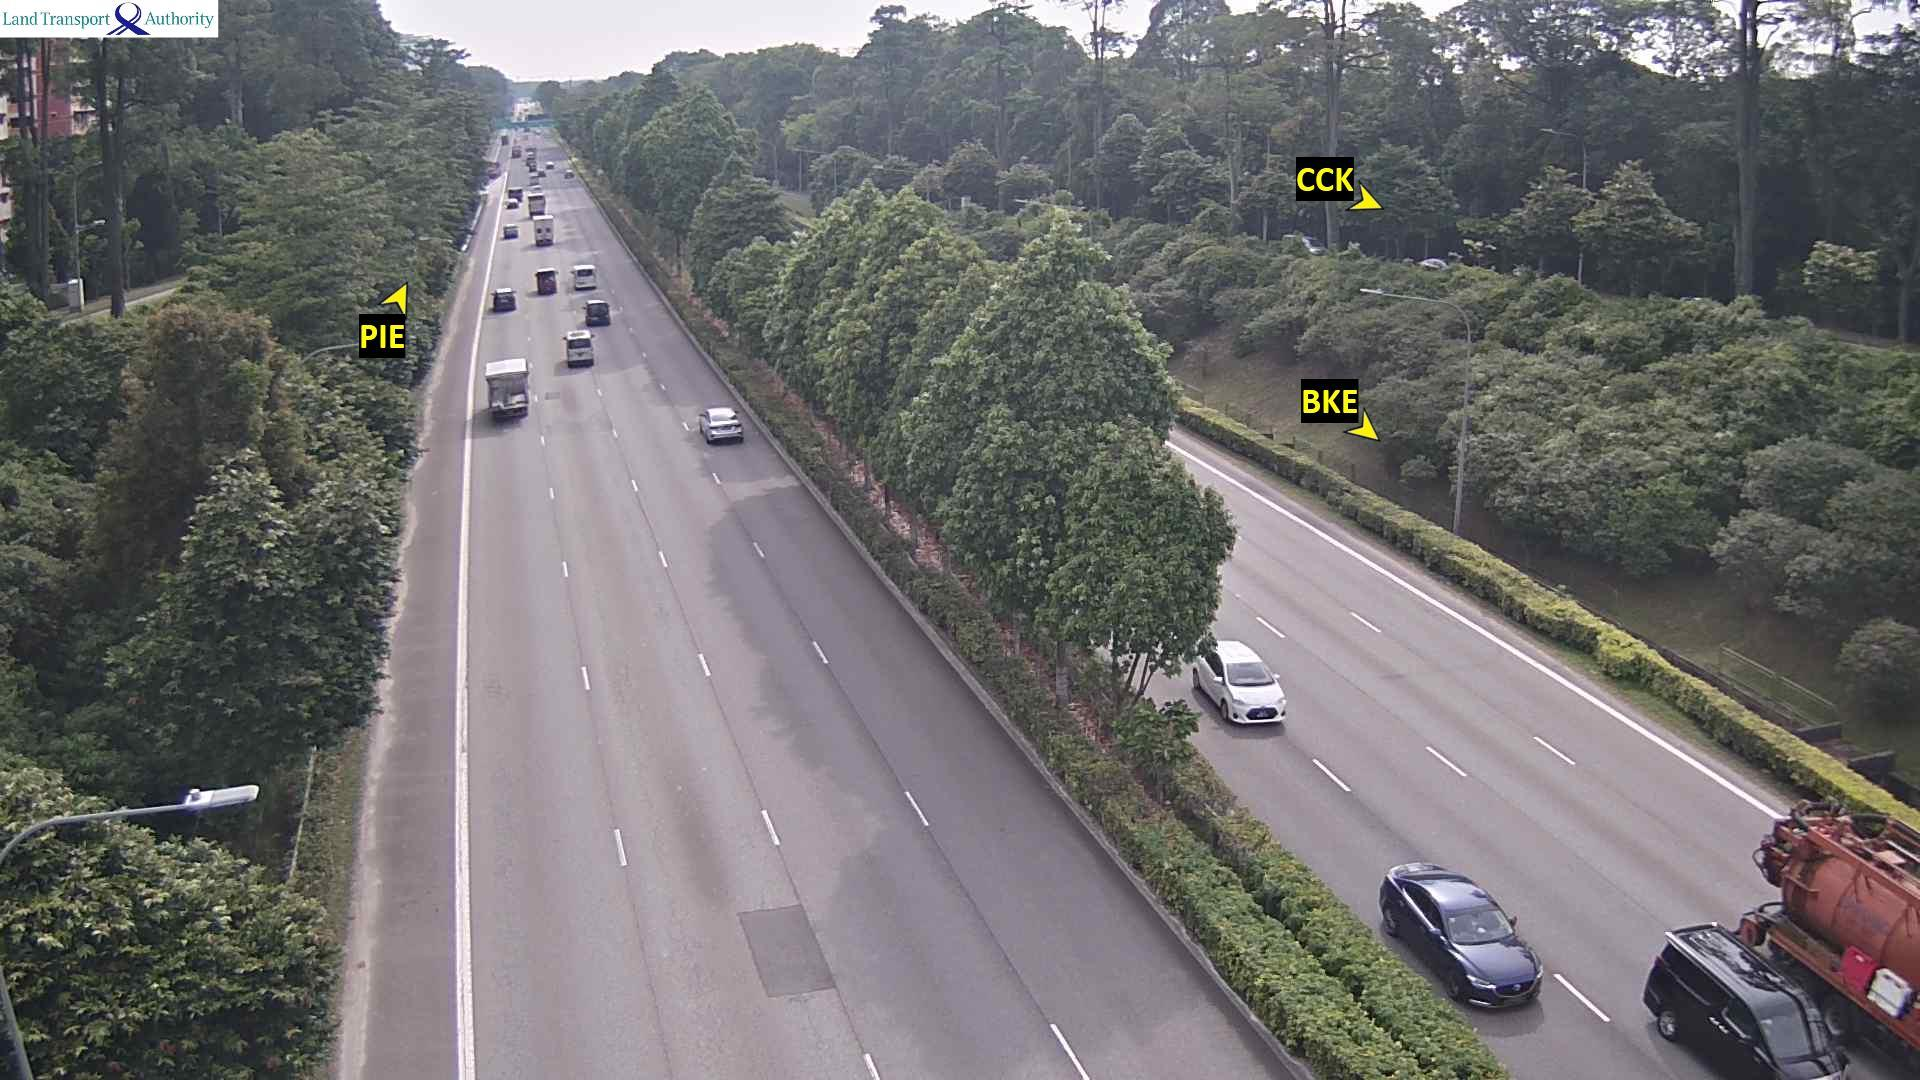incoming: (1429, 909, 1549, 1015), (1738, 1016, 1861, 1077), (1210, 667, 1293, 726)
